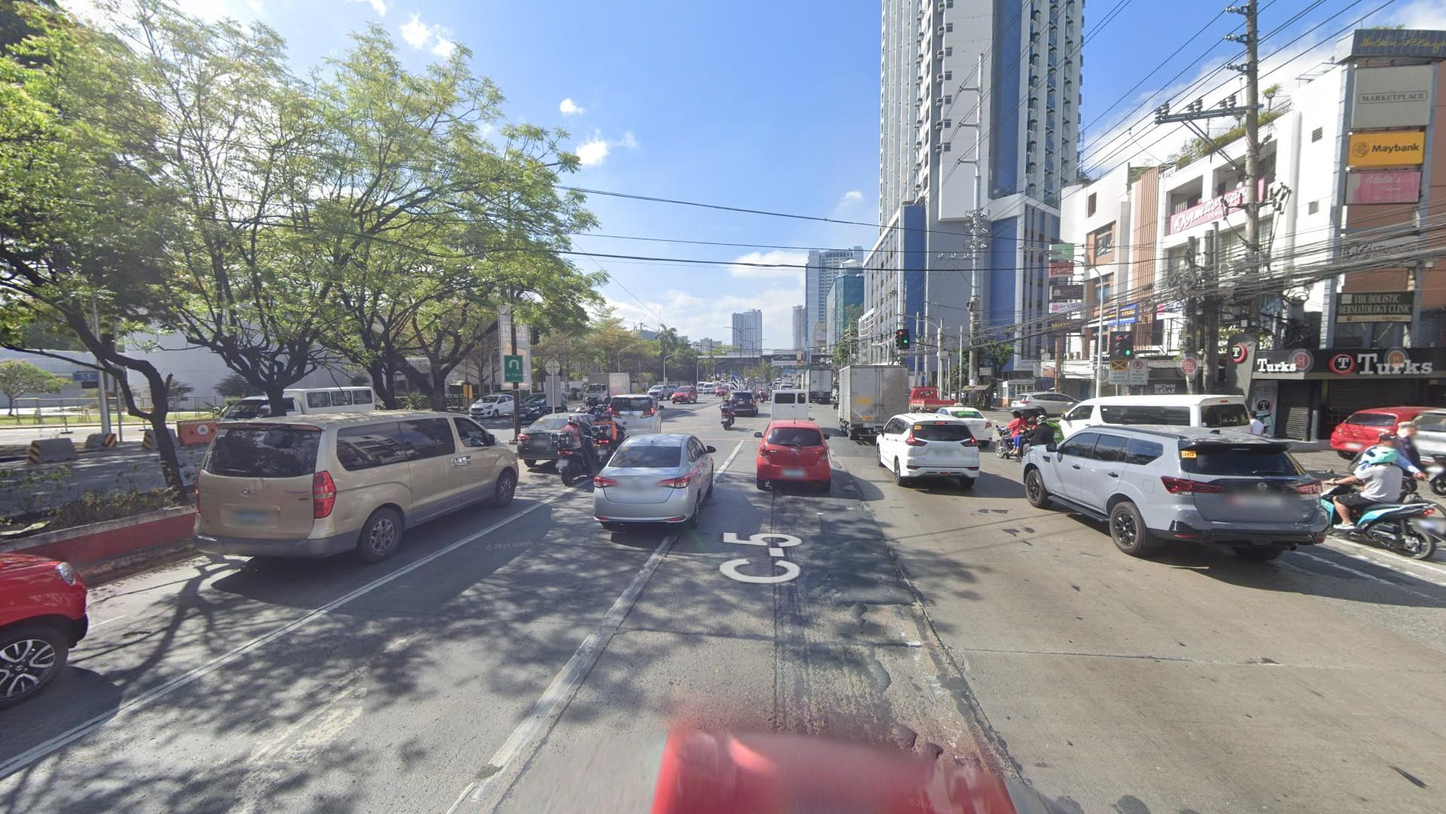pedestrian: (1340, 431, 1425, 517), (1386, 419, 1430, 520), (1241, 408, 1267, 466)
